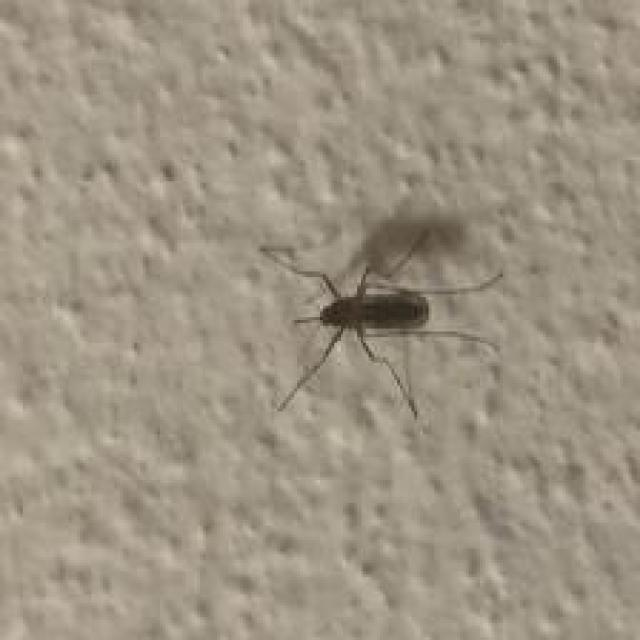Culex: (259, 227, 504, 422)
